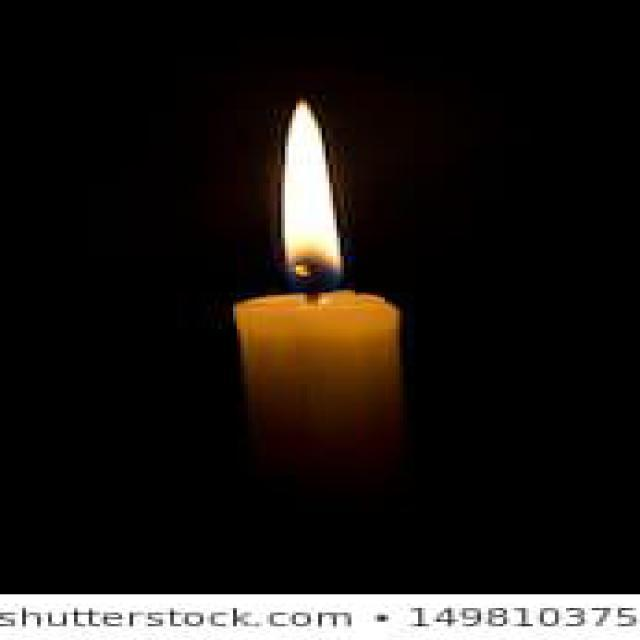Fire: (285, 100, 344, 292)
